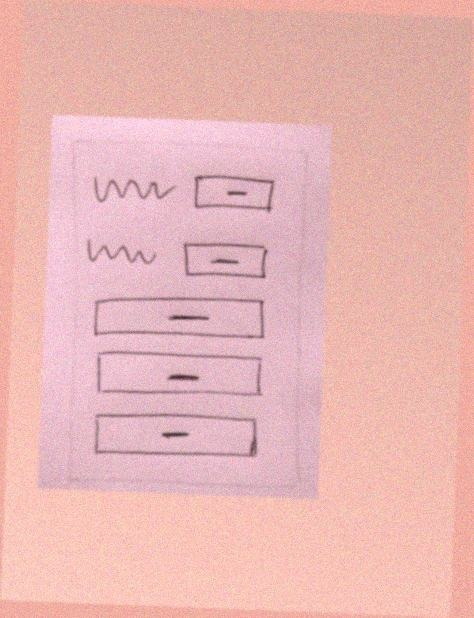button: (87, 289, 272, 344), (92, 347, 267, 401), (87, 408, 262, 462), (188, 168, 284, 224), (178, 230, 274, 286)
text: (89, 169, 181, 213), (81, 226, 173, 270)
